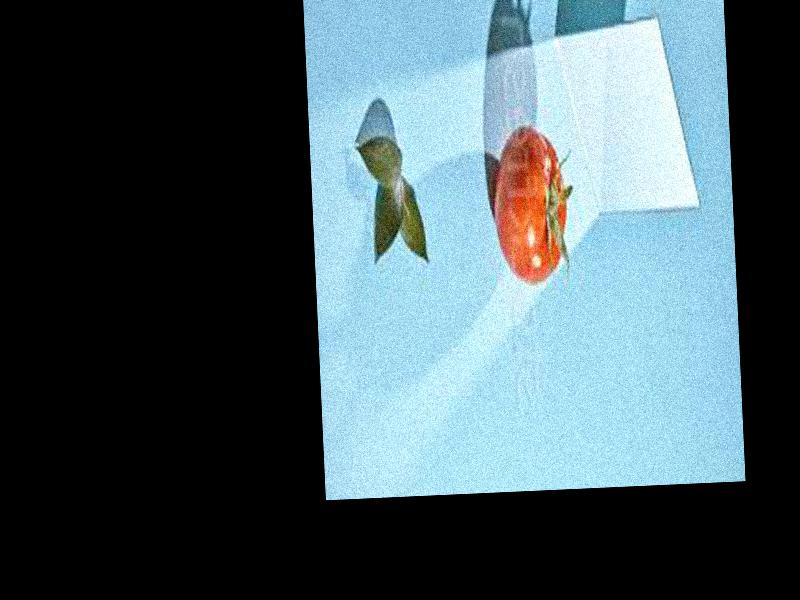Tomato: (490, 124, 571, 289)
